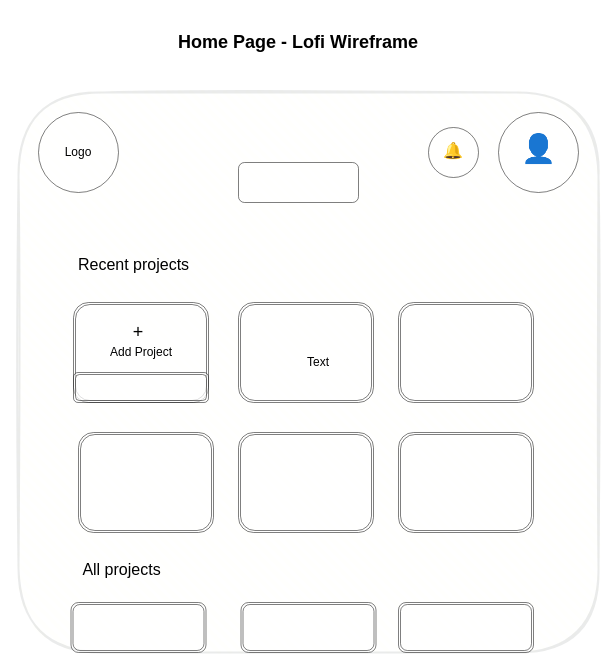
This 616x671 diagram has some shape labels left out. Here are the shapes that lost their labels. From the top down, the centre of each, then its label:
the point at 298,182: Organisation
the point at 140,387: Explore a demo project
